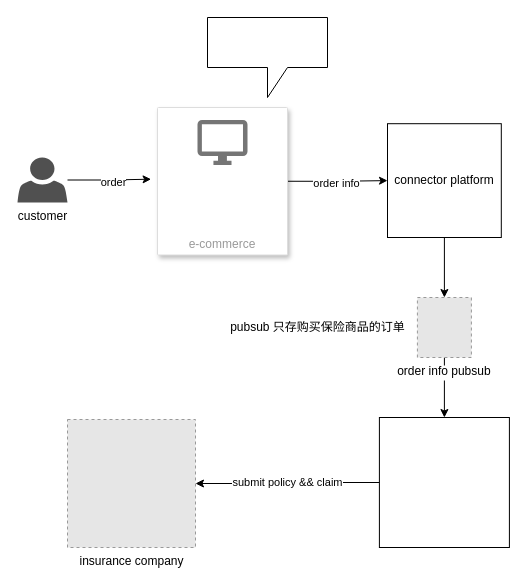
Image size: 527x586. Some labels were removed from this diagram. Grey dashed boxes stand in for pictures. The shapes that lost their labels are listed below. From the top down, each one's centre as x and y in pixels, then its label:
At pixel 267 57: "插入 widget，为让 customer 能够购买保险".
At pixel 443 482: "protection system".
